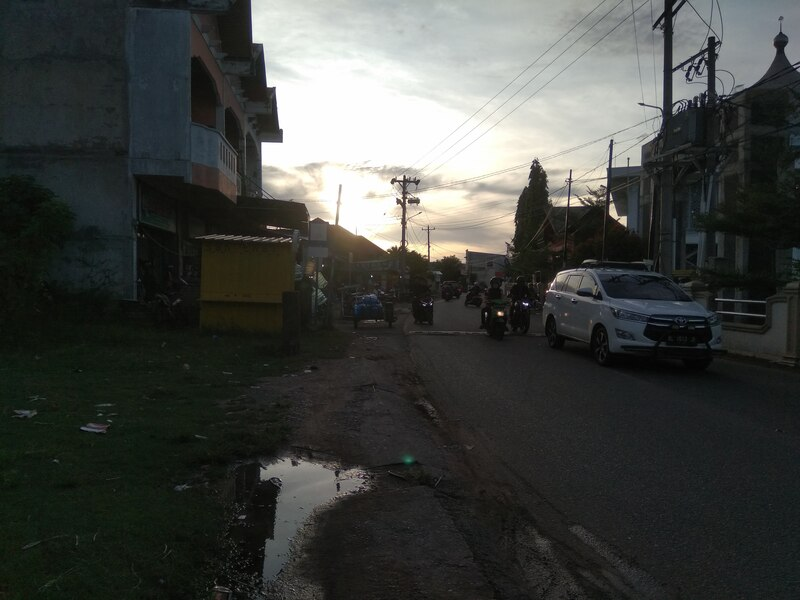car: (541, 257, 726, 379)
motorcycle: (480, 297, 513, 345), (509, 294, 536, 342), (410, 293, 437, 329)
